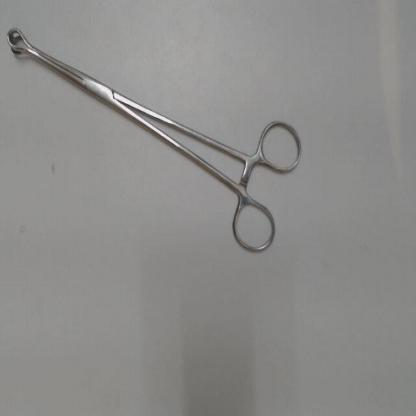8 Babcock Tissue Forceps: (1, 23, 312, 261)
